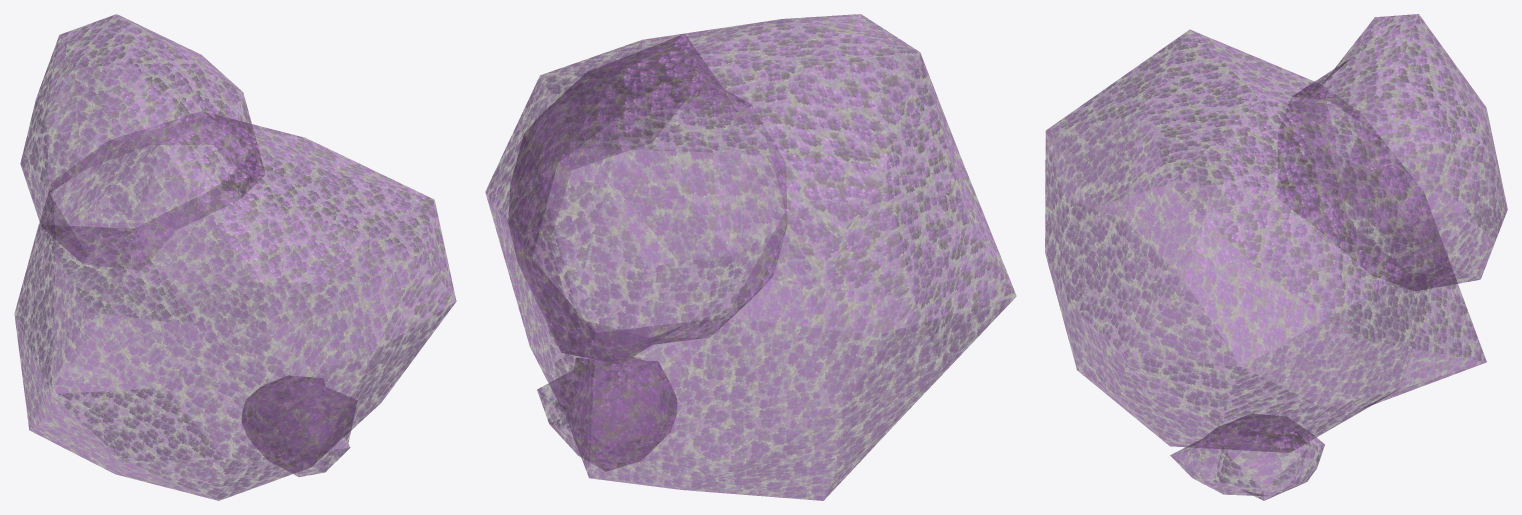
The model's file is tree-purple.glb.
3 views of the same model, side by side, from view 1: azimuth 30°, elevation 25°; view 2: azimuth 150°, elevation 25°; view 3: azimuth 270°, elevation 25° (orthographic). The views are drawn at different scales.
Visible parts, largest first — view 1: Icosphere.005; view 2: Icosphere.005; view 3: Icosphere.005.
Boxes of the visible parts, x1,y1,x2,y2 form: Icosphere.005: [14, 14, 456, 500]; Icosphere.005: [485, 14, 1016, 500]; Icosphere.005: [1045, 14, 1507, 500].
Size of the model in its own units: 3.13 by 3.13 by 3.1.
1 material, 1 textured.
